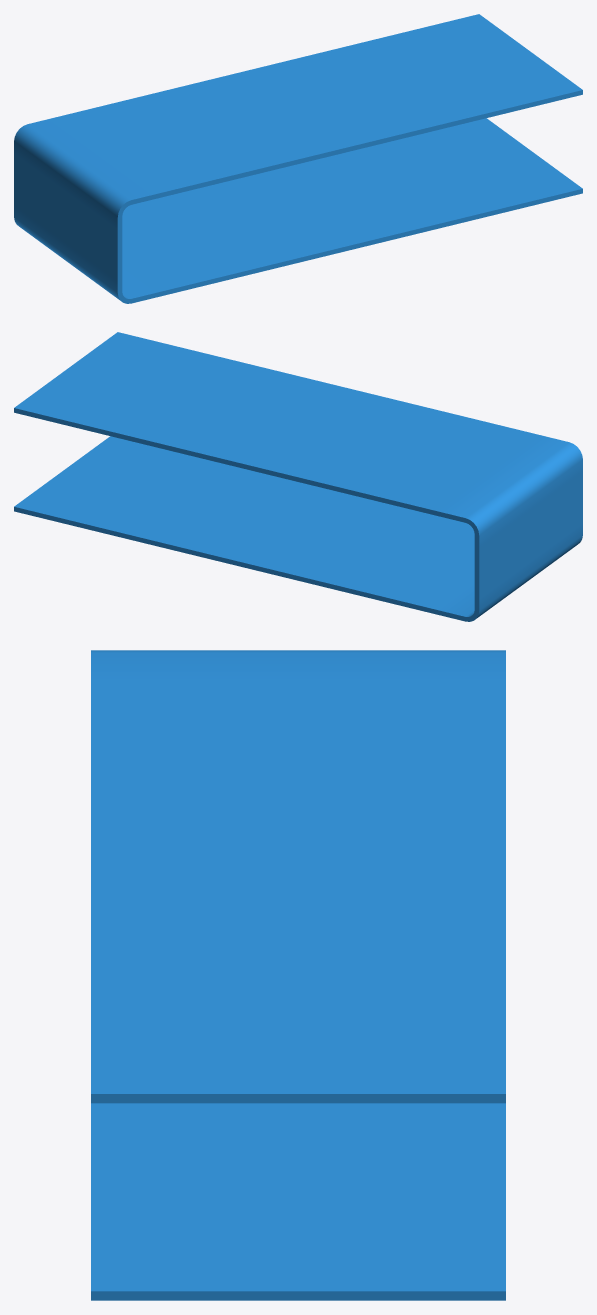
The model's file is RiverTile_Edge.fbx.
3 renders of one model, top to bottom at view 1: azimuth 30°, elevation 25°; view 2: azimuth 150°, elevation 25°; view 3: azimuth 270°, elevation 25°, orthographic. The views are drawn at different scales.
Visible parts, largest first — view 1: River_Tile_Edge.001; view 2: River_Tile_Edge.001; view 3: River_Tile_Edge.001.
Boxes of the visible parts, box(x1,y1,x2,y2) form: River_Tile_Edge.001: box(14, 14, 582, 303); River_Tile_Edge.001: box(14, 332, 582, 621); River_Tile_Edge.001: box(91, 650, 505, 1300).
Bounding box in the file's own units: 104 × 22 × 40.
